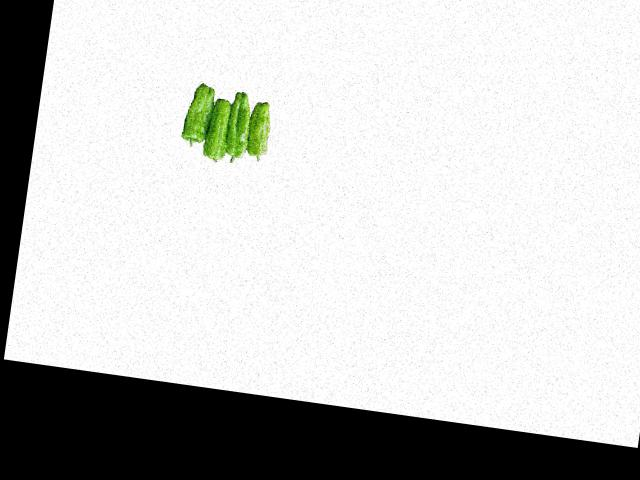bell_pepper: (179, 76, 217, 152)
